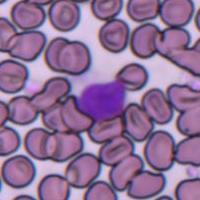L: (77, 76, 127, 122)
